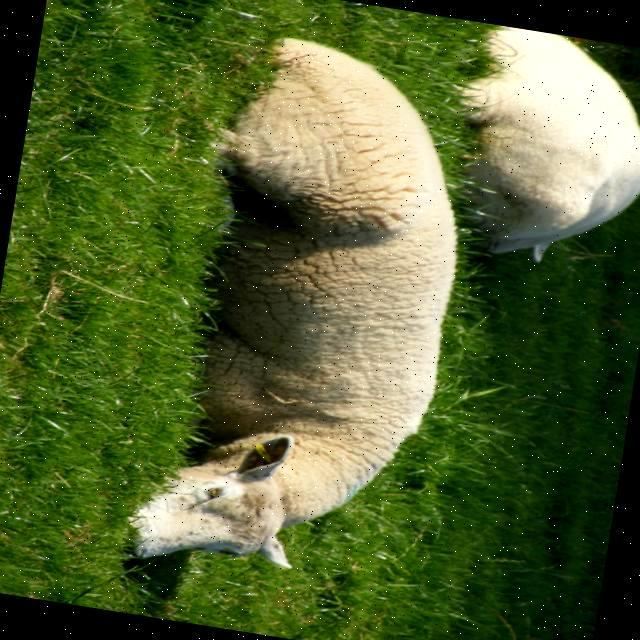sheep: (130, 37, 459, 565), (461, 25, 640, 262)
